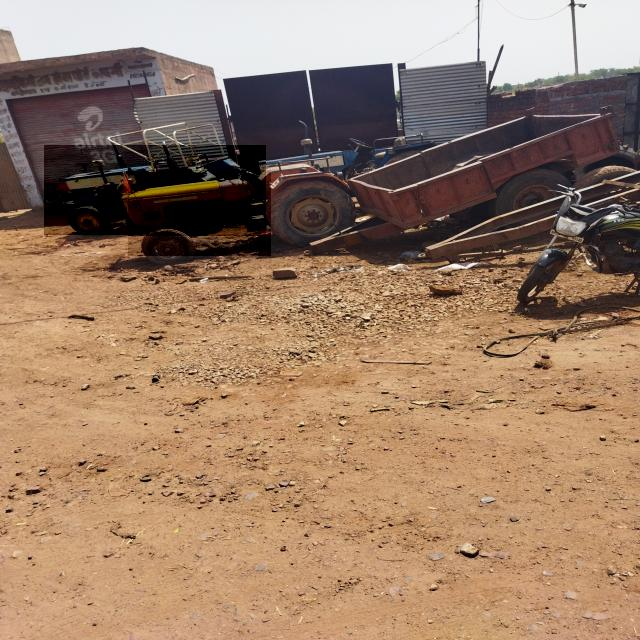Tractot: (44, 146, 266, 236), (128, 170, 271, 256)
